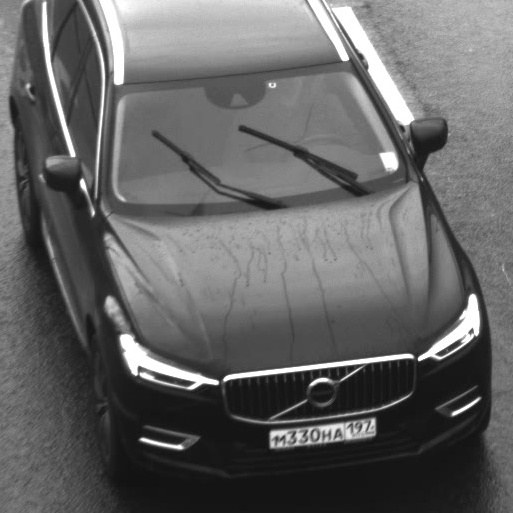plate: (259, 404, 384, 454)
